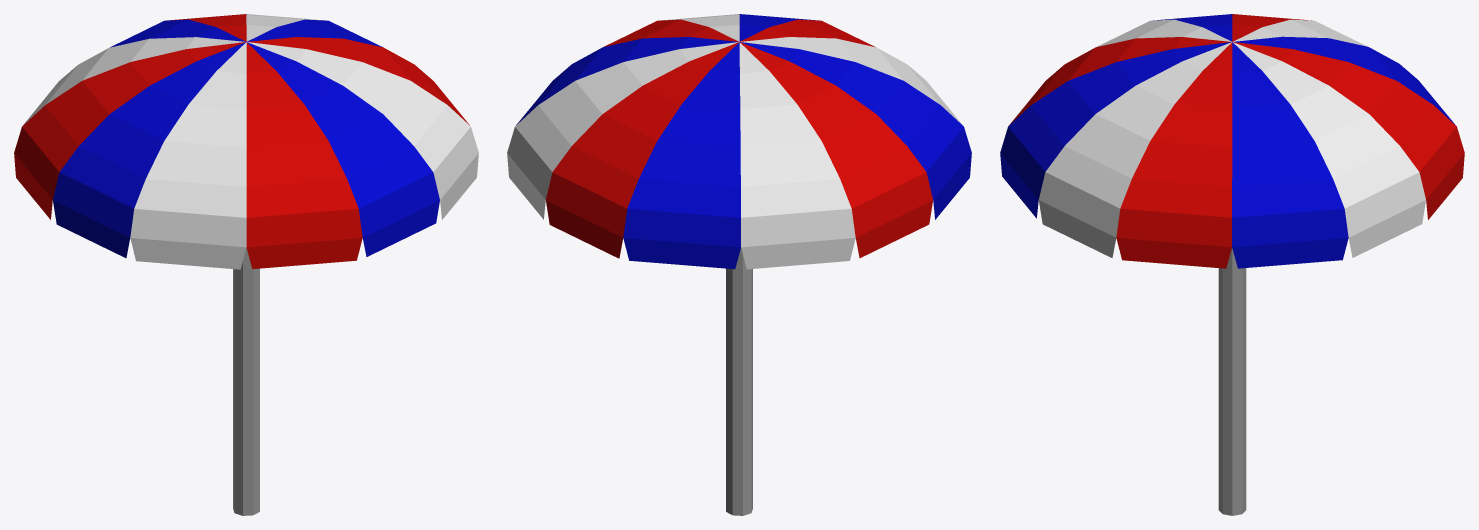
Rendered from Umbrella_6.fbx.
3 renders of one model, left to right at view 1: azimuth 30°, elevation 25°; view 2: azimuth 150°, elevation 25°; view 3: azimuth 270°, elevation 25°, orthographic.
Parts seen in each view (by area): view 1: Top, Base; view 2: Top, Base; view 3: Top, Base.
Part boxes in pixels (<box>): Top: <box>14,14,478,269</box>; Base: <box>233,247,259,515</box>; Top: <box>507,14,971,269</box>; Base: <box>726,248,752,515</box>; Top: <box>1000,14,1464,268</box>; Base: <box>1218,248,1246,515</box>.
Bounding box in the file's own units: 173 × 200 × 180.
